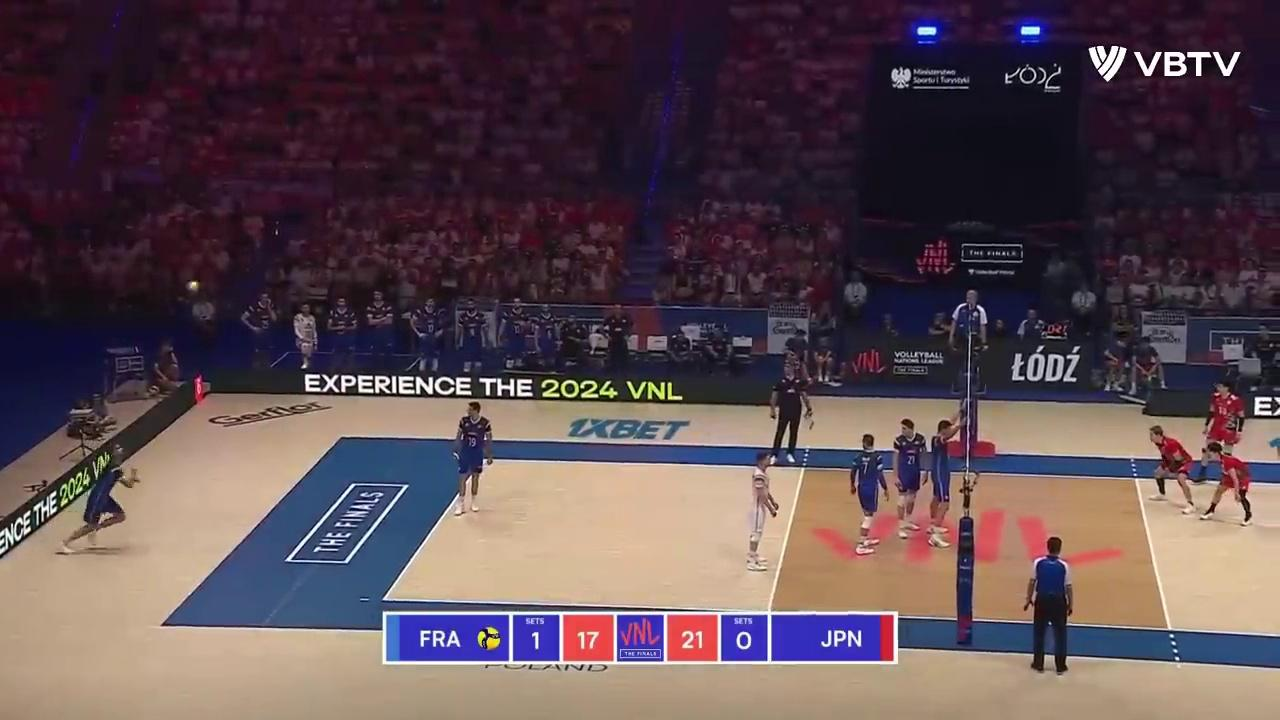ball: (187, 281, 199, 293)
